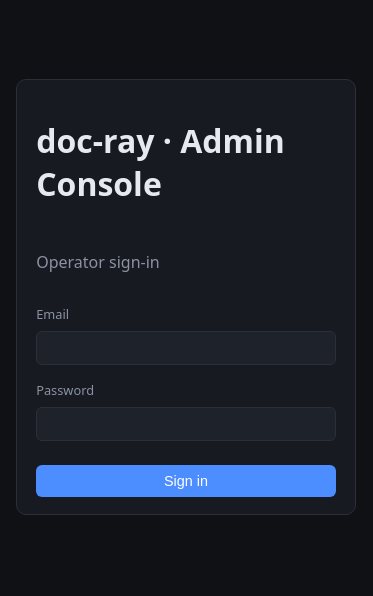
Test: LoginPage › surfaces an error message when login fails
Step 1. Type "ops@example.com" into the field labelled "Email" → {"x": 186, "y": 348}, box [36, 331, 336, 365]
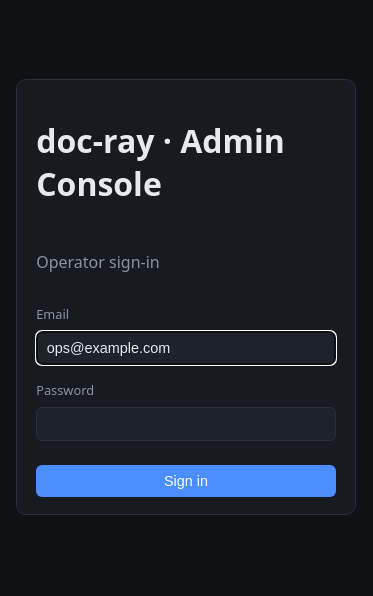
Step 2. Type "wrong" into the password field labelled "Password" → {"x": 186, "y": 424}, box [36, 407, 336, 441]
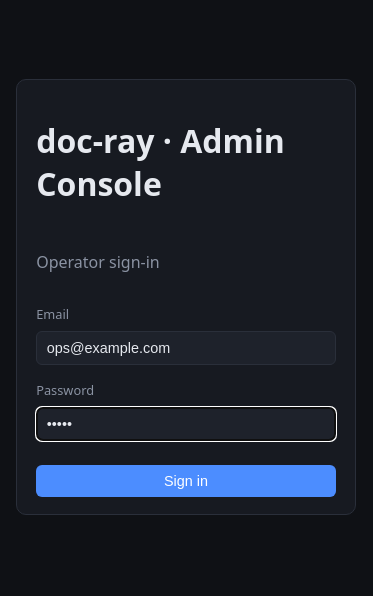
Step 3. Click the button "Sign in" → {"x": 186, "y": 481}, box [36, 465, 336, 497]
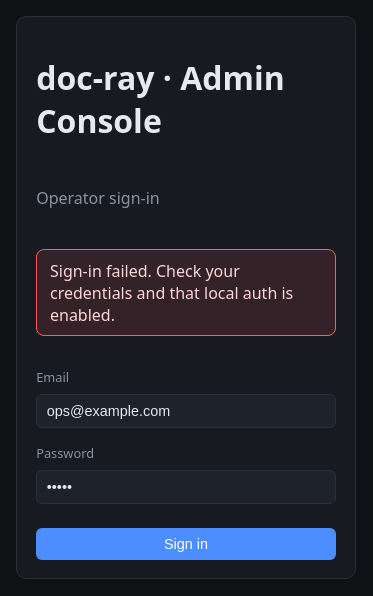
expect the message "Sign-in failed. Check your credentials and that local auth is enabled." is shown: met, box [36, 249, 336, 336]
